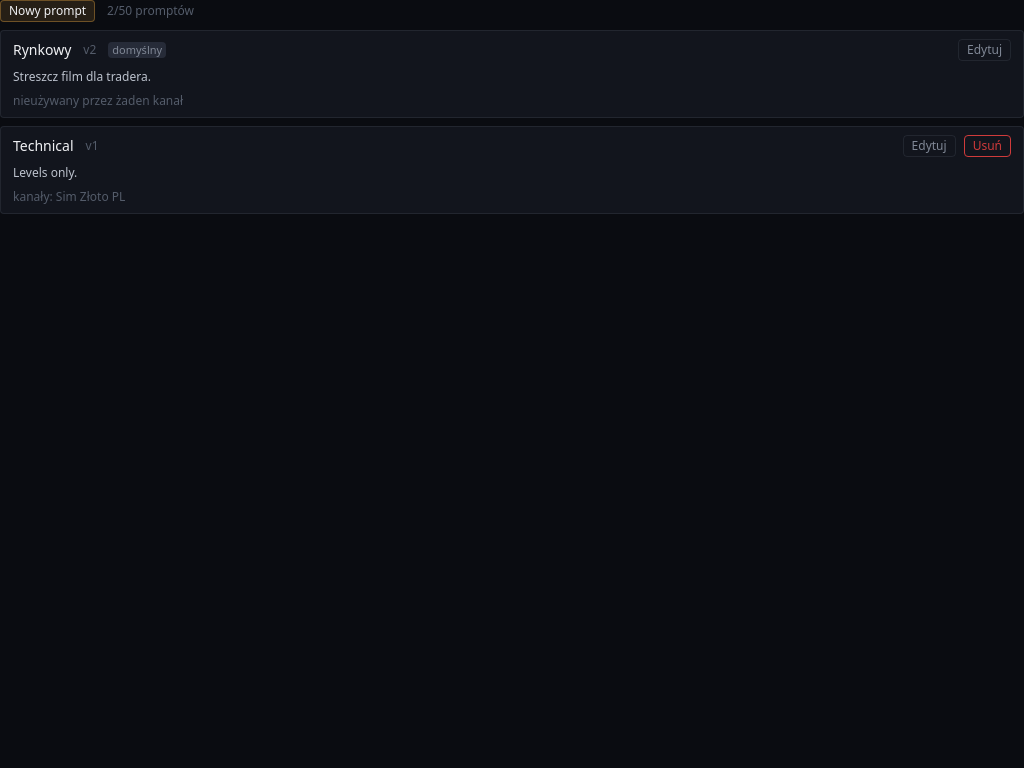
PromptsPanel › keeps the module's reason in the dialog when it refuses to delete
What coordinates should you click on to do the following:
click the button "Usuń"
I would click on:
 (987, 146)
Its box is x1=964 y1=135 x2=1011 y2=157.
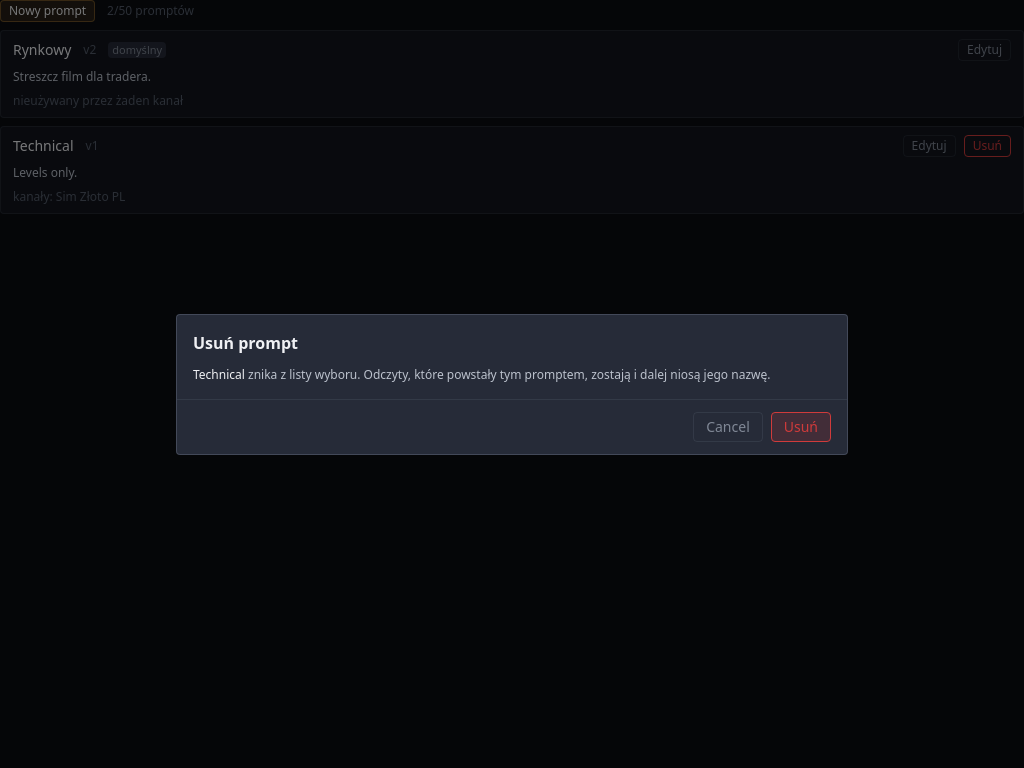
What coordinates should you click on to do the following:
click the button "Usuń"
I would click on:
 (801, 426)
Its box is x1=771 y1=412 x2=831 y2=442.
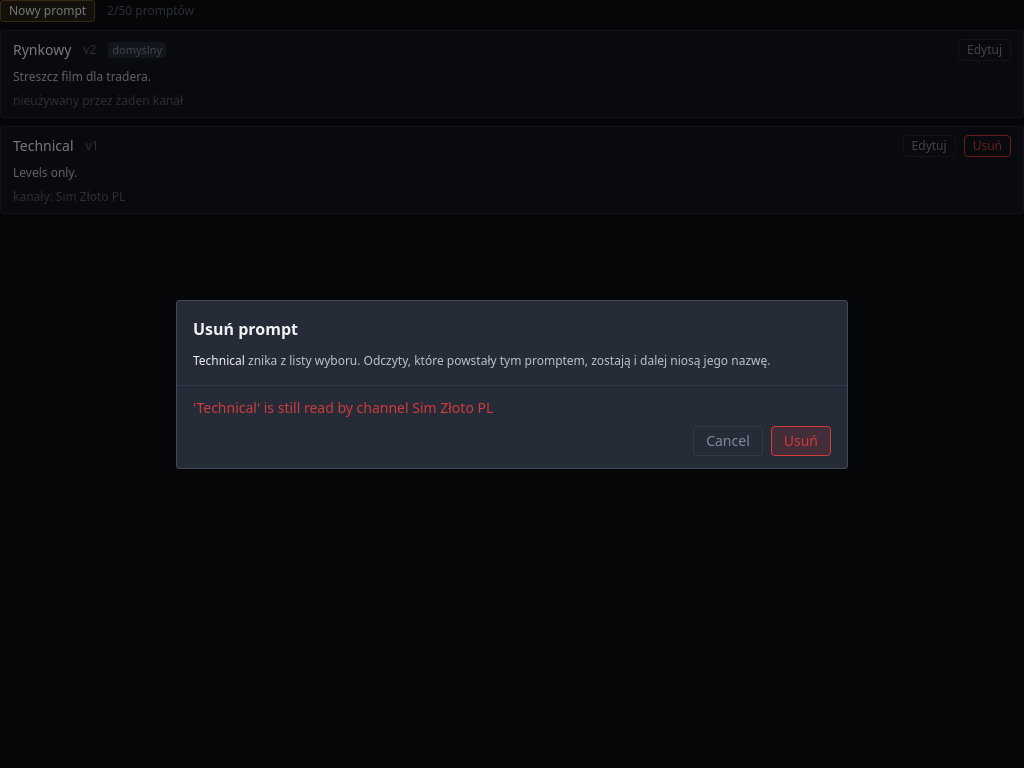
Expected: the text "'Technical' is still read by channel Sim Złoto PL" is shown, x1=193 y1=398 x2=493 y2=416
